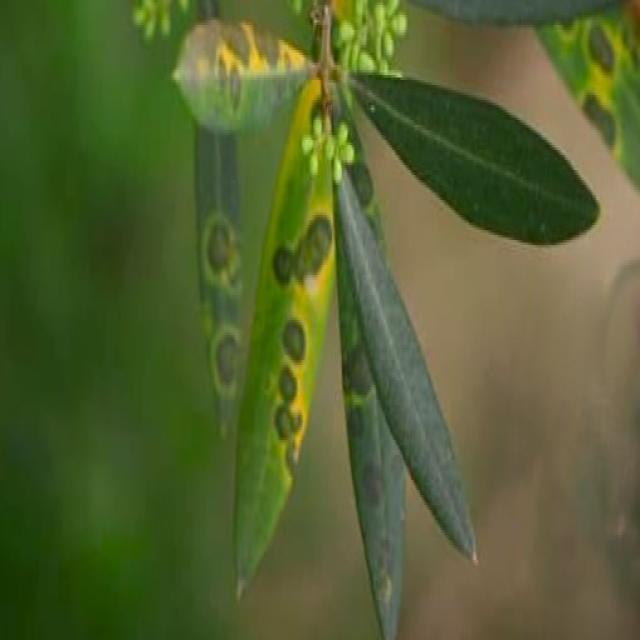Peacock Eye: (233, 80, 331, 598), (172, 20, 314, 130), (197, 125, 240, 435)
